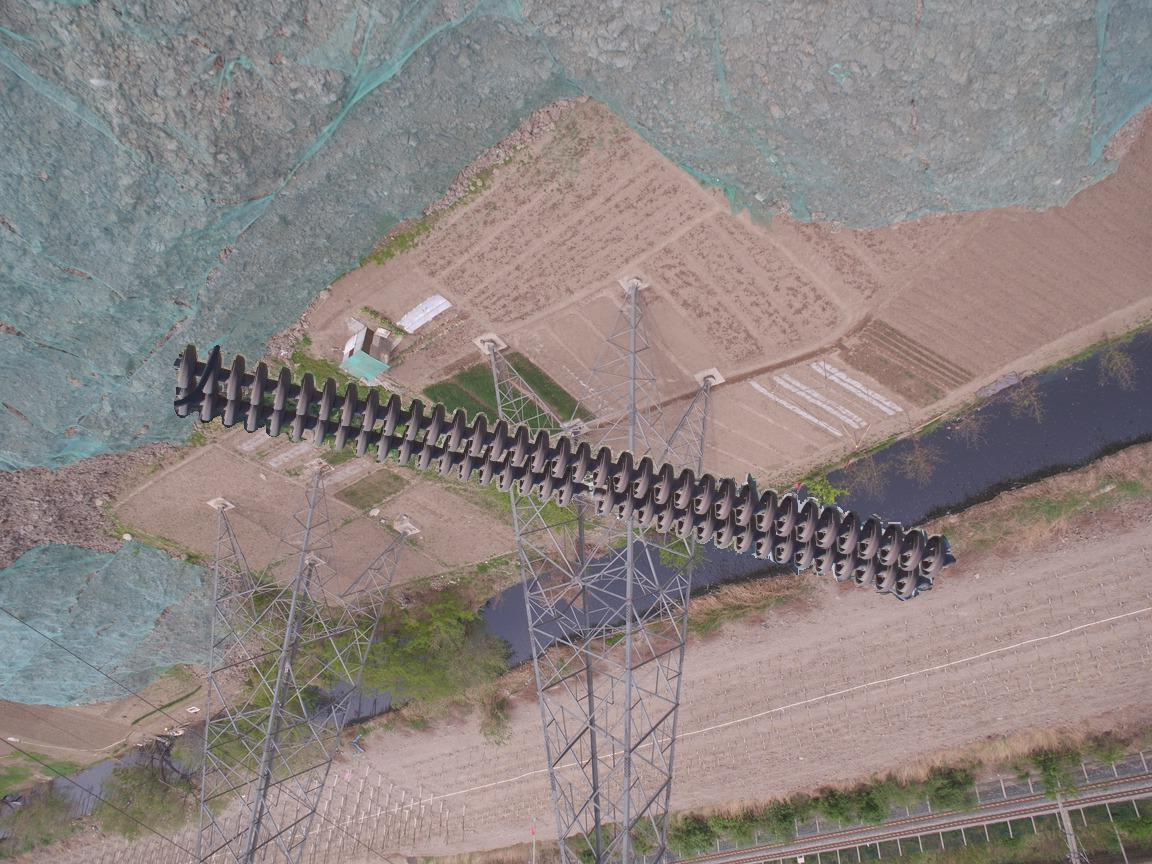insulator: (167, 339, 956, 602)
insulator_stringdrop: (553, 474, 618, 521)
